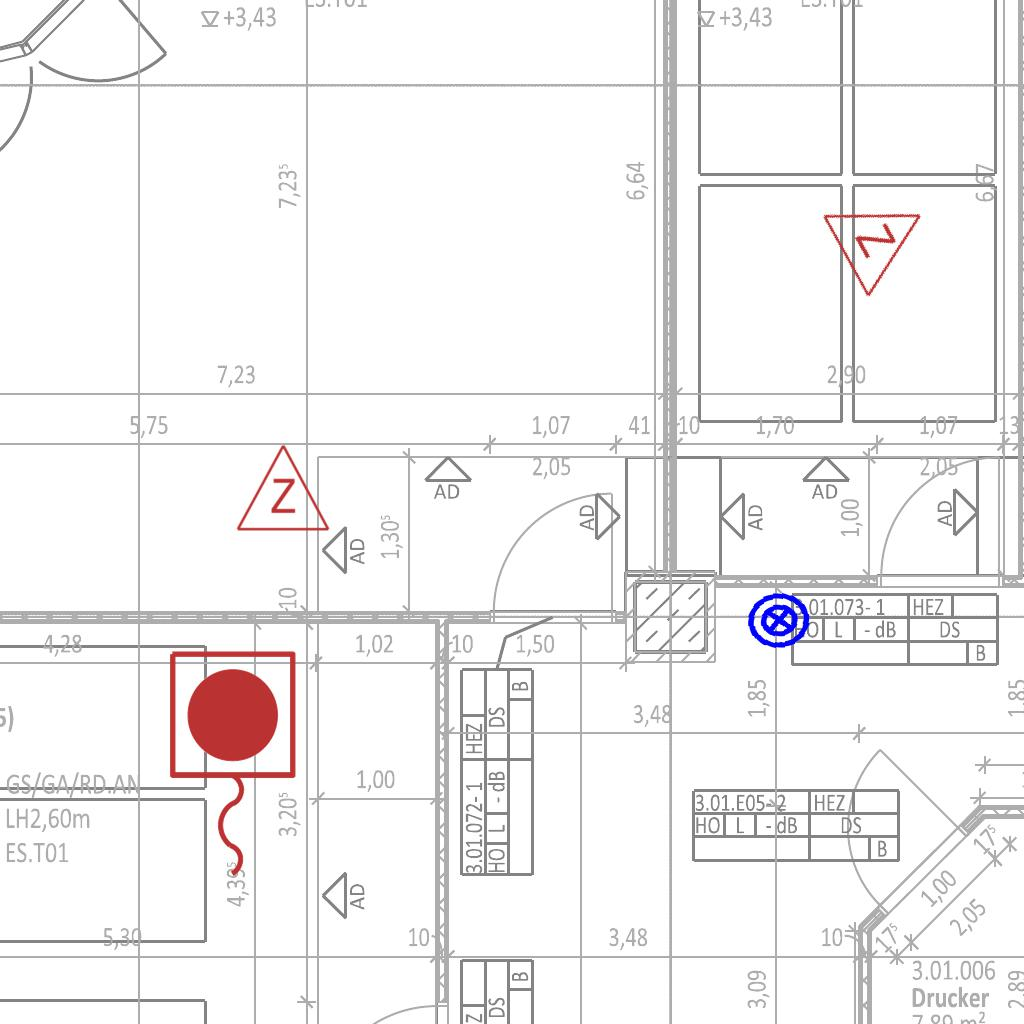Taster_beleuchtet: (742, 583, 816, 657)
Zimmersignalleuchte: (814, 167, 950, 303), (233, 438, 331, 538)
Zugtaster: (159, 643, 303, 887)
